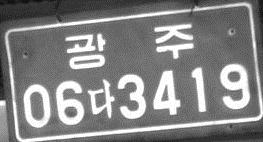0: (22, 83, 51, 129)
1: (186, 69, 212, 112)
3: (116, 73, 146, 119)
4: (152, 70, 180, 115)
6: (55, 80, 85, 126)
9: (219, 63, 250, 109)
광주_D: (65, 23, 193, 69)
다: (87, 79, 114, 119)
